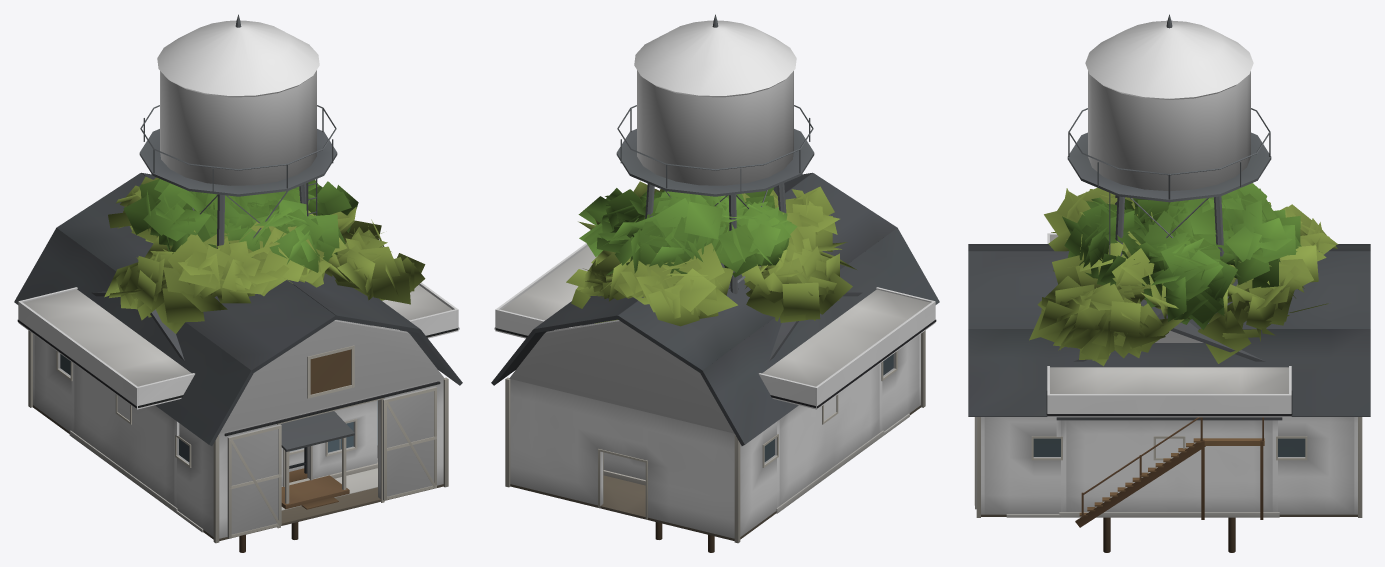
The model's file is world.glb.
3 renders of one model, left to right at view 1: azimuth 30°, elevation 25°; view 2: azimuth 150°, elevation 25°; view 3: azimuth 270°, elevation 25°, orthographic. The views are drawn at different scales.
Parts seen in each view (by area): view 1: BARN, WATER_TOWER, TREE_A, GAS_CANOPY, TREE_B, GAS_SHOP, HOUSE_A, HOUSE_B; view 2: BARN, WATER_TOWER, TREE_A, GAS_CANOPY, TREE_B, GAS_SHOP, HOUSE_A; view 3: BARN, WATER_TOWER, GAS_SHOP, TREE_A, TREE_B, GAS_CANOPY, HOUSE_B, PIER.
Part boxes in pixels (left/top/right/bottom): BARN: left=14, top=172, right=462, bottom=543; WATER_TOWER: left=139, top=14, right=337, bottom=248; TREE_A: left=104, top=176, right=425, bottom=333; GAS_CANOPY: left=17, top=282, right=459, bottom=409; TREE_B: left=123, top=178, right=358, bottom=272; GAS_SHOP: left=69, top=363, right=377, bottom=532; HOUSE_A: left=281, top=400, right=377, bottom=509; HOUSE_B: left=91, top=291, right=371, bottom=471; BARN: left=491, top=172, right=939, bottom=543; WATER_TOWER: left=616, top=14, right=814, bottom=293; TREE_A: left=566, top=181, right=856, bottom=326; GAS_CANOPY: left=494, top=243, right=936, bottom=409; TREE_B: left=578, top=187, right=797, bottom=277; GAS_SHOP: left=775, top=363, right=909, bottom=513; HOUSE_A: left=603, top=452, right=645, bottom=485; BARN: left=968, top=244, right=1370, bottom=517; WATER_TOWER: left=1067, top=14, right=1271, bottom=256; GAS_SHOP: left=1006, top=417, right=1282, bottom=517; TREE_A: left=1029, top=187, right=1338, bottom=366; TREE_B: left=1062, top=183, right=1301, bottom=329; GAS_CANOPY: left=1046, top=233, right=1292, bottom=417; HOUSE_B: left=1073, top=312, right=1265, bottom=527; PIER: left=1103, top=517, right=1235, bottom=552.
Bounding box in the file's own units: 14.14 × 21.3 × 14.8.
